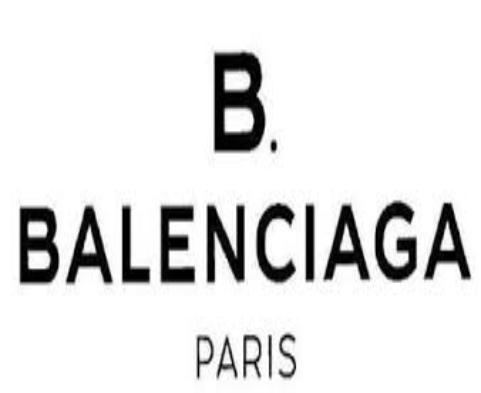BALENCIAGA: (15, 203, 475, 284)
